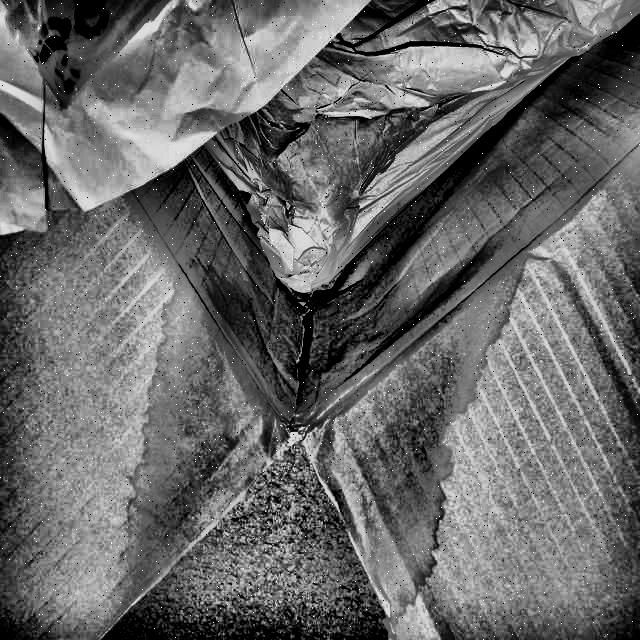box: (0, 0, 640, 637)
wet: (129, 220, 503, 611)
